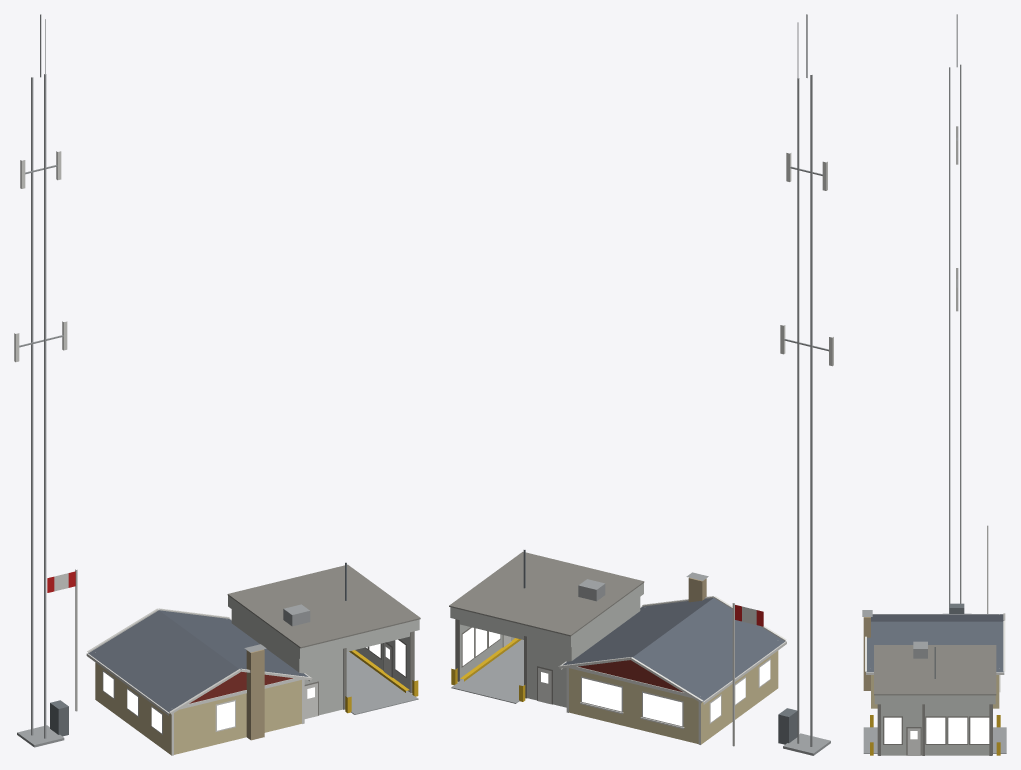
The model's file is h28_port_cbsa_main_lod2.gltf.
The picture shows the model from 3 angles, left to right: view 1: azimuth 30°, elevation 25°; view 2: azimuth 150°, elevation 25°; view 3: azimuth 270°, elevation 25°; orthographic projection. The views are drawn at different scales.
Parts seen in each view (by area): view 1: h28_port_cbsa_main; view 2: h28_port_cbsa_main; view 3: h28_port_cbsa_main.
Boxes of the visible parts, x1,y1,x2,y2 form: h28_port_cbsa_main: (14, 14, 420, 755); h28_port_cbsa_main: (449, 14, 833, 755); h28_port_cbsa_main: (862, 14, 1006, 755).
Size of the model in its own units: 23.72 by 46 by 9.9.
